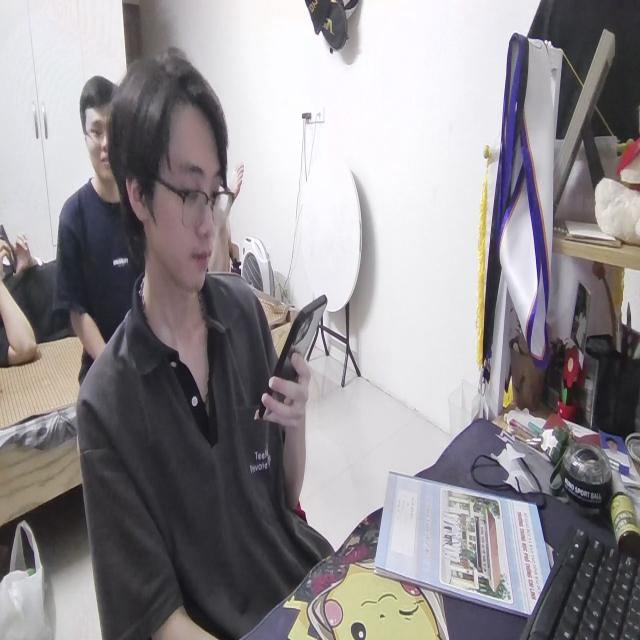book: (375, 469, 552, 618)
extra_person: (56, 76, 142, 374)
phone: (254, 290, 328, 426)
student: (78, 40, 336, 640)
